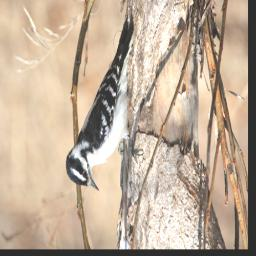Woodpecker: (65, 10, 144, 191)
